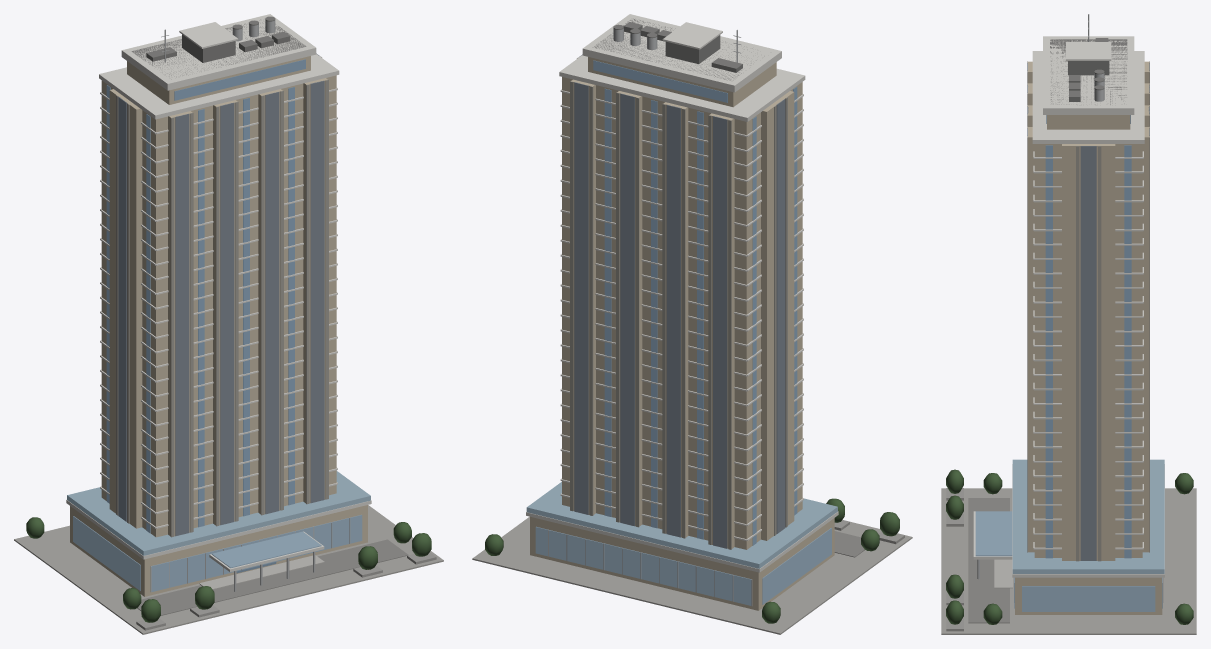
The model's file is chung-cu-cao-tang.glb.
The picture shows the model from 3 angles, left to right: view 1: azimuth 30°, elevation 25°; view 2: azimuth 150°, elevation 25°; view 3: azimuth 270°, elevation 25°; orthographic projection. The views are drawn at different scales.
Parts seen in each view (by area): view 1: chung_cu_cao_tang; view 2: chung_cu_cao_tang; view 3: chung_cu_cao_tang.
Part boxes in pixels (x1=…): chung_cu_cao_tang: x1=14, y1=14, x2=443, y2=634; chung_cu_cao_tang: x1=472, y1=14, x2=912, y2=634; chung_cu_cao_tang: x1=941, y1=14, x2=1196, y2=634.
Size of the model in its own units: 70 by 117 by 52.
